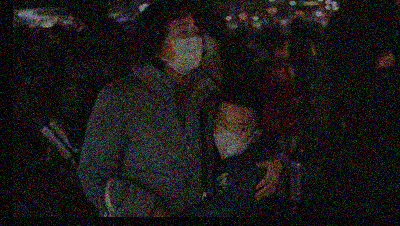with_mask: (162, 19, 203, 75), (212, 115, 255, 160)
without_mask: (279, 43, 291, 60)
